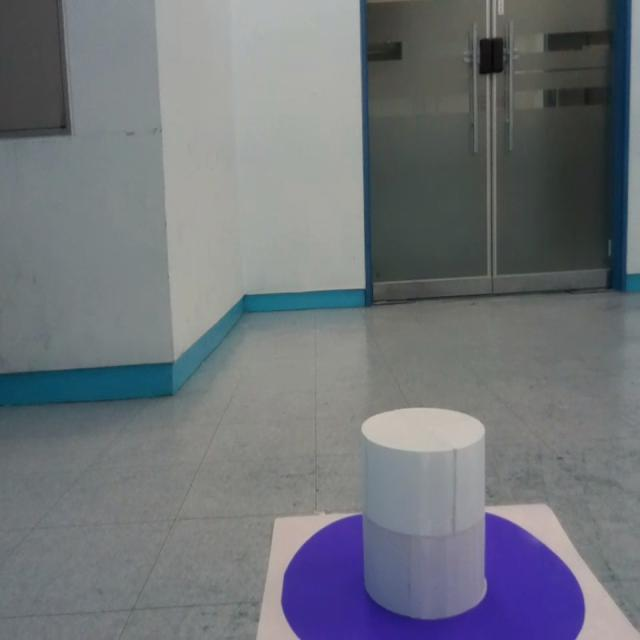cylinder: (359, 407, 487, 620)
